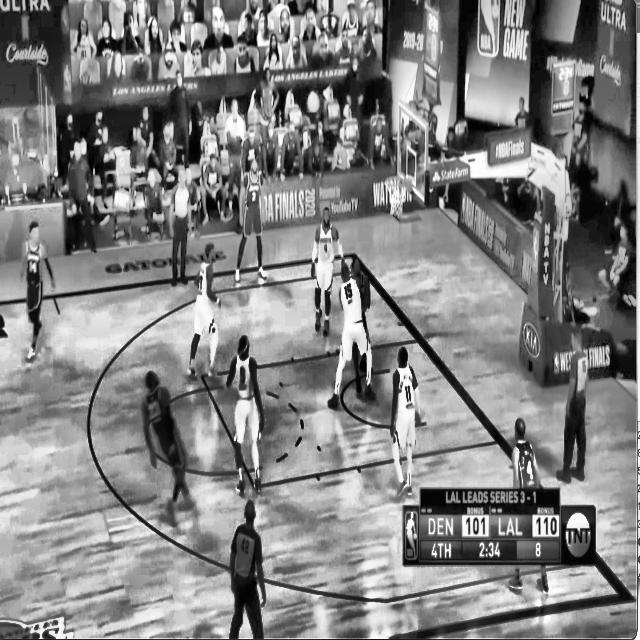Basketball: (307, 89, 319, 112)
